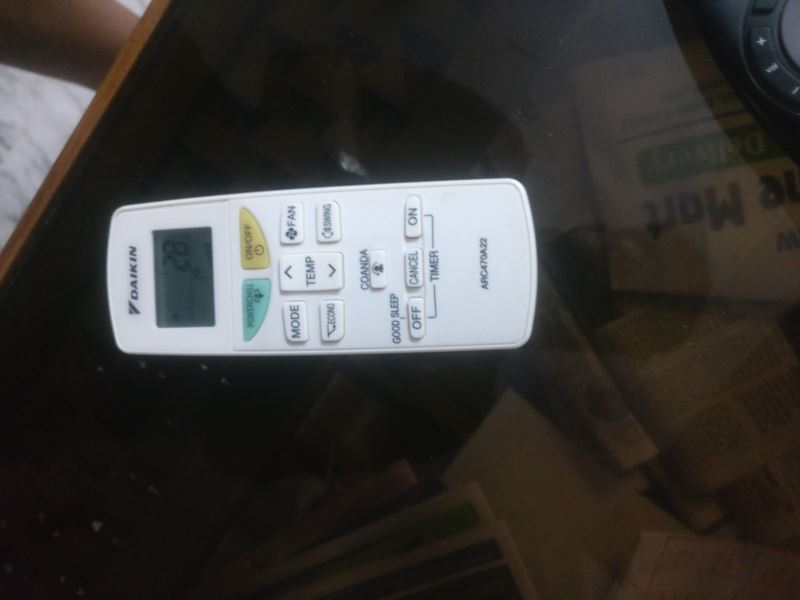ac remote: (102, 178, 538, 358)
